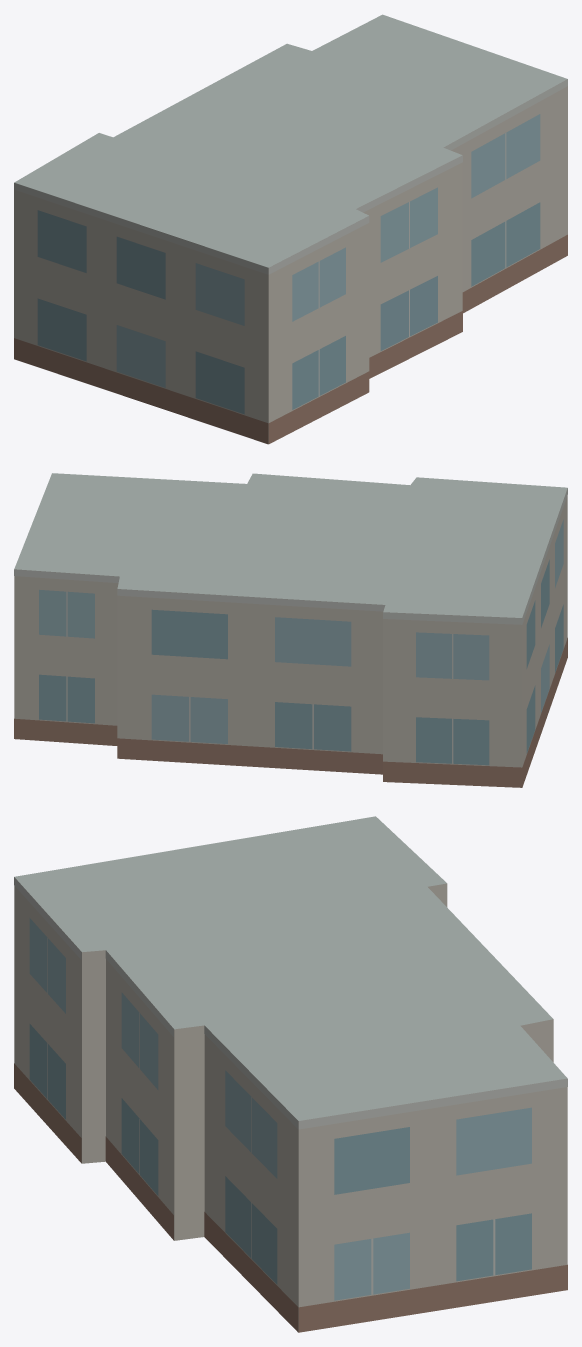
The model's file is survey-upis-32851339.glb.
The picture shows the model from 3 angles, top to bottom: view 1: azimuth 30°, elevation 25°; view 2: azimuth 150°, elevation 25°; view 3: azimuth 270°, elevation 25°; orthographic projection. The views are drawn at different scales.
Parts seen in each view (by area): view 1: survey-upis-32851339.tmp; view 2: survey-upis-32851339.tmp; view 3: survey-upis-32851339.tmp.
Part boxes in pixels (x1,y1,x2,y2): survey-upis-32851339.tmp: [14, 14, 567, 444]; survey-upis-32851339.tmp: [14, 473, 567, 787]; survey-upis-32851339.tmp: [14, 816, 567, 1332].
Bounding box in the file's own units: 18.86 × 6.1 × 14.48.
